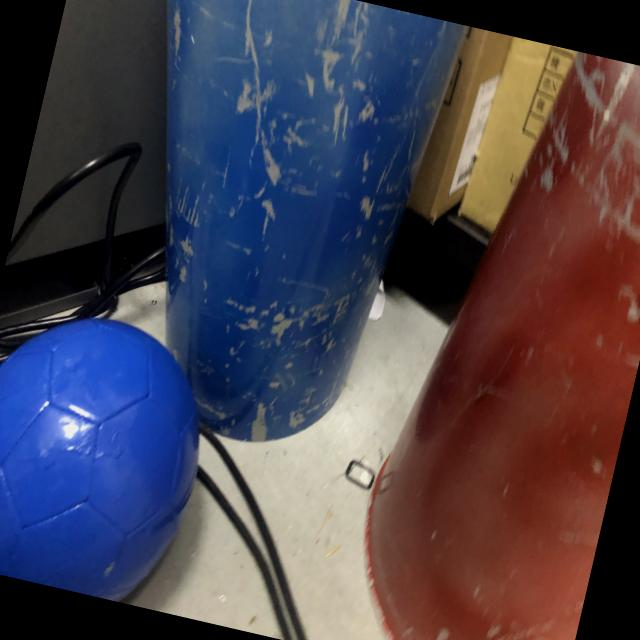blue_ball: (0, 291, 226, 612)
